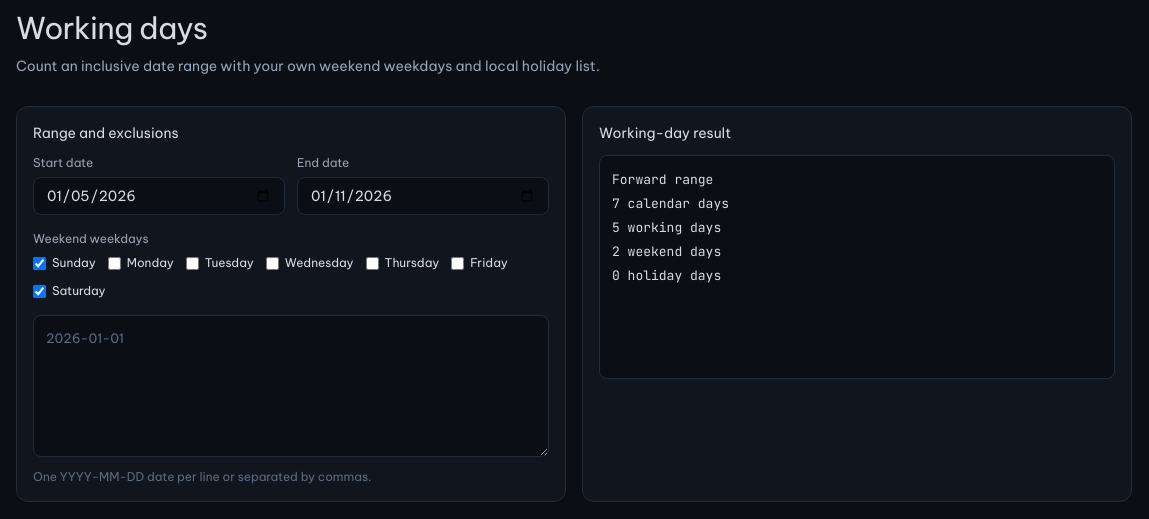
Test case: Working Days tool › announces invalid holiday dates
In the text box named "Holiday dates": [291, 386] box [33,315,549,457], type "2026-02-30"
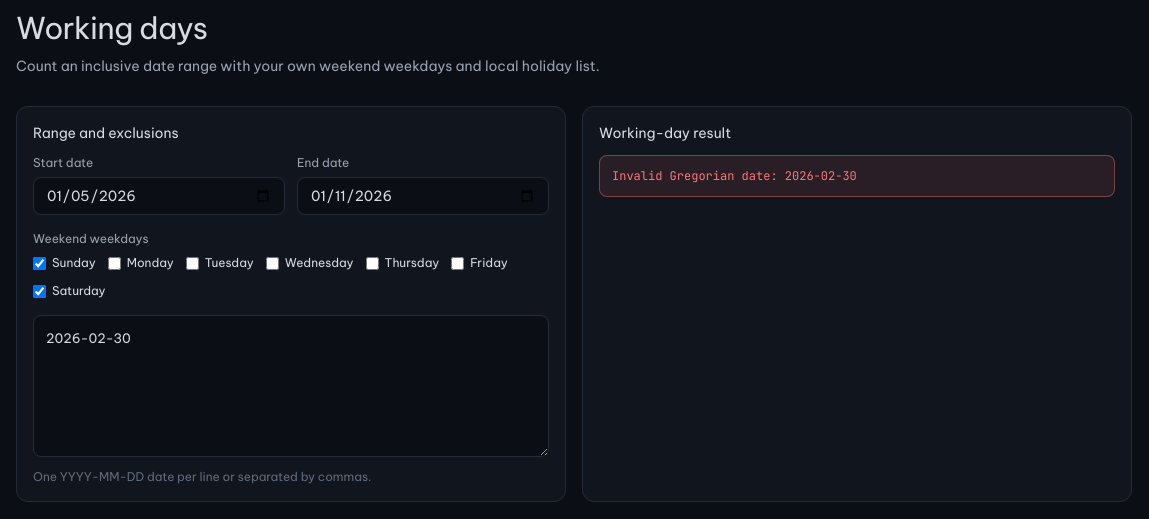
Expected: the message "Invalid Gregorian date: 2026-02-30" is shown, [599,155,1115,197]
